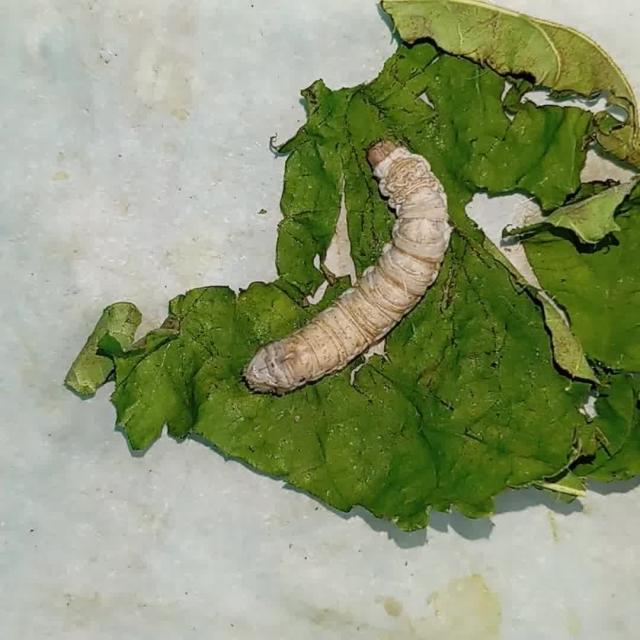Grasserie: (228, 106, 492, 414)
